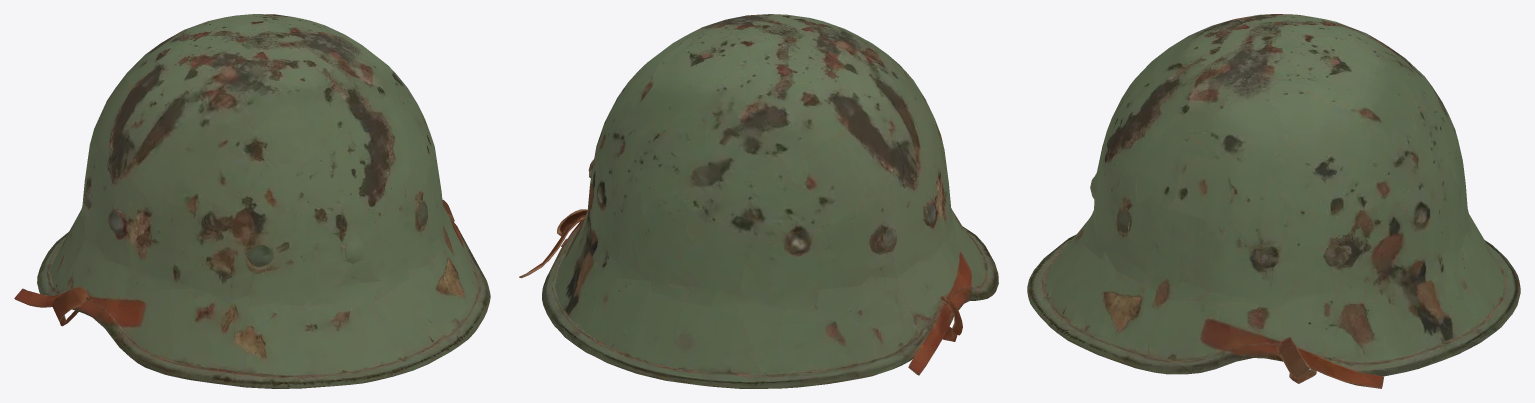
File: zombie_helmet.glb
3 views of the same model, side by side, from view 1: azimuth 30°, elevation 25°; view 2: azimuth 150°, elevation 25°; view 3: azimuth 270°, elevation 25° (orthographic).
Bounding box in the file's own units: 1.79 × 1.11 × 1.9.
Materials: 1 (1 with a texture image).
